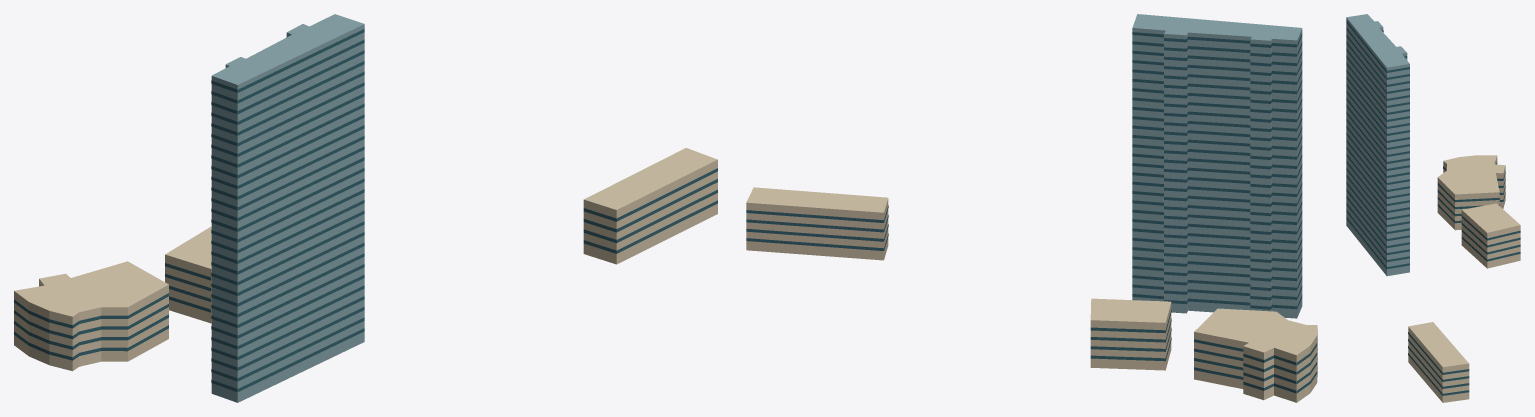
File: city_3_-8.glb
3 views of the same model, side by side, from view 1: azimuth 30°, elevation 25°; view 2: azimuth 150°, elevation 25°; view 3: azimuth 270°, elevation 25° (orthographic). The views are drawn at different scales.
Parts seen in each view (by area): view 1: city_3_-8; view 2: city_3_-8; view 3: city_3_-8.
Boxes of the visible parts, <box> form: city_3_-8: <box>14,14,717,402</box>; city_3_-8: <box>746,14,1317,402</box>; city_3_-8: <box>1346,14,1520,402</box>.
Bounding box in the file's own units: 260 × 119 × 90.13.
